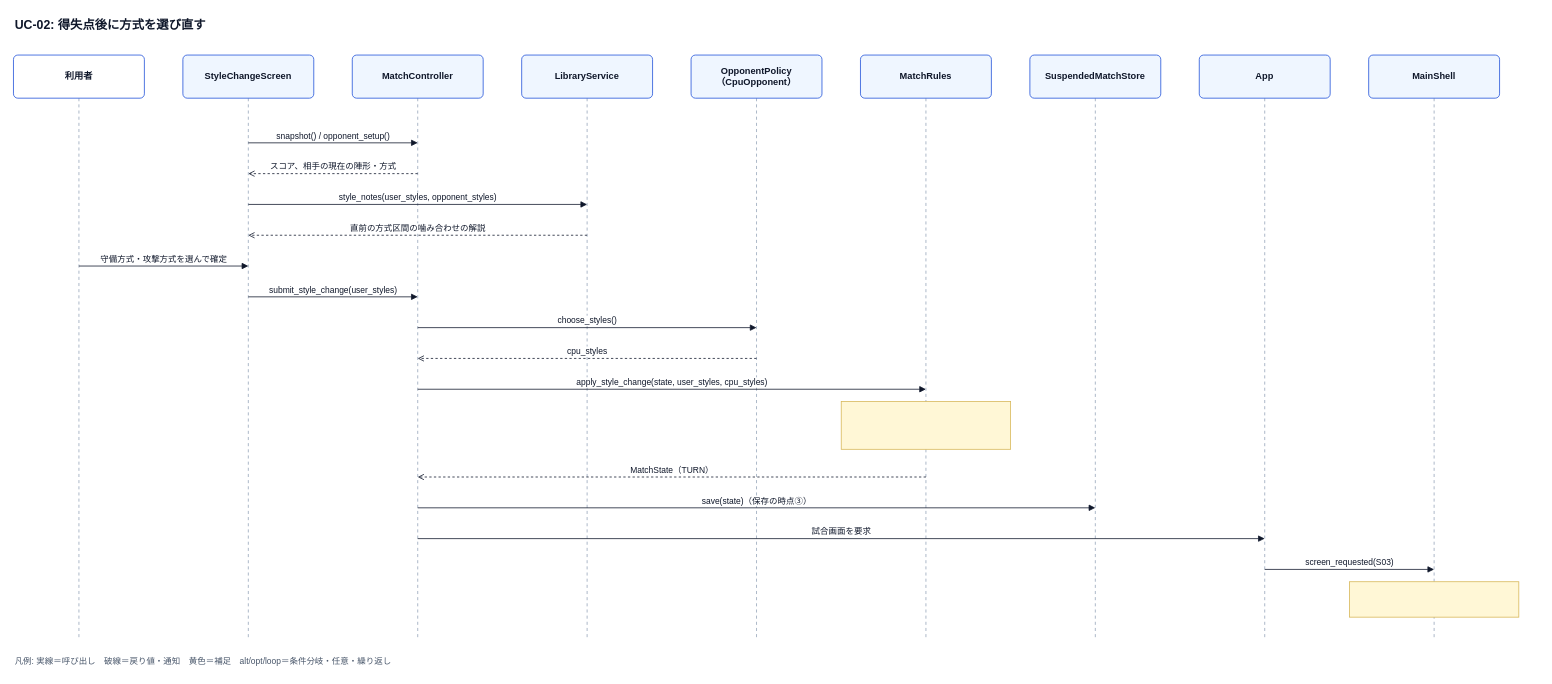
The diagram is 1552 pixels wide and 684 high, and some of its shapes have lost their labels. The shapes that lost their labels are listed below. From the top down, each one's box as (x1, y1, x2, y2) in pixels, then its label:
(840, 401, 1011, 449): 失点側のキックオフ。 配置区間と方式区間を始める（アルゴリズム7）
(1349, 581, 1519, 617): キックオフ時に両者の方式を開示する（FR-21）
